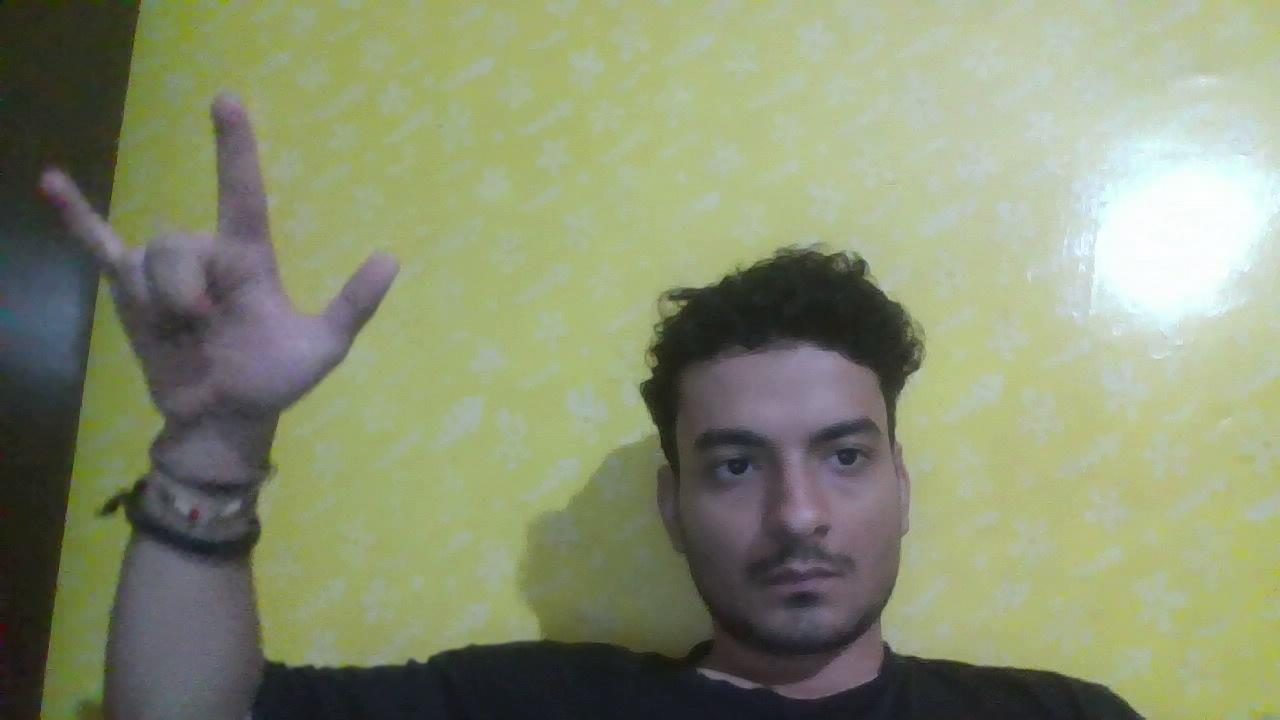Loveyou: (5, 39, 457, 483)
